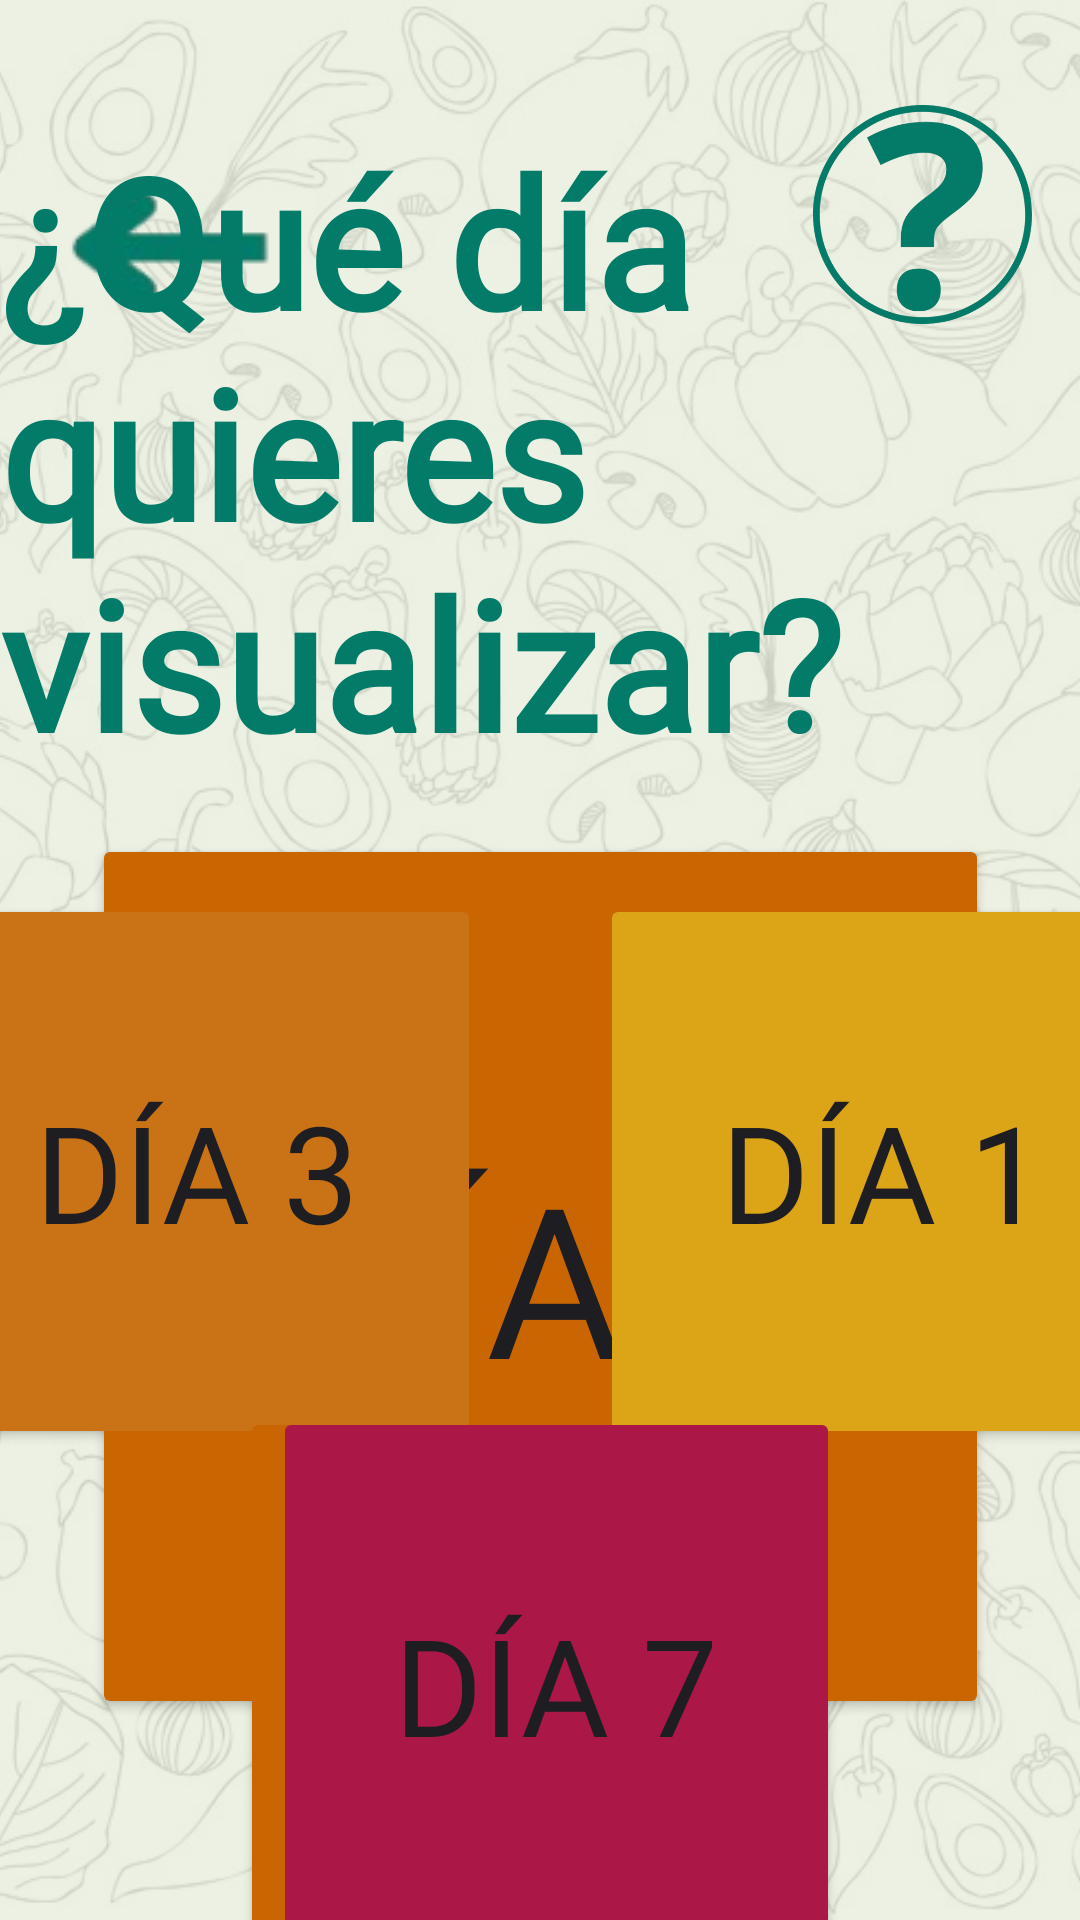

Icons on this 1080x1920 Android screen, each with the point to tap as (x,y):
question mark: (918,214)
